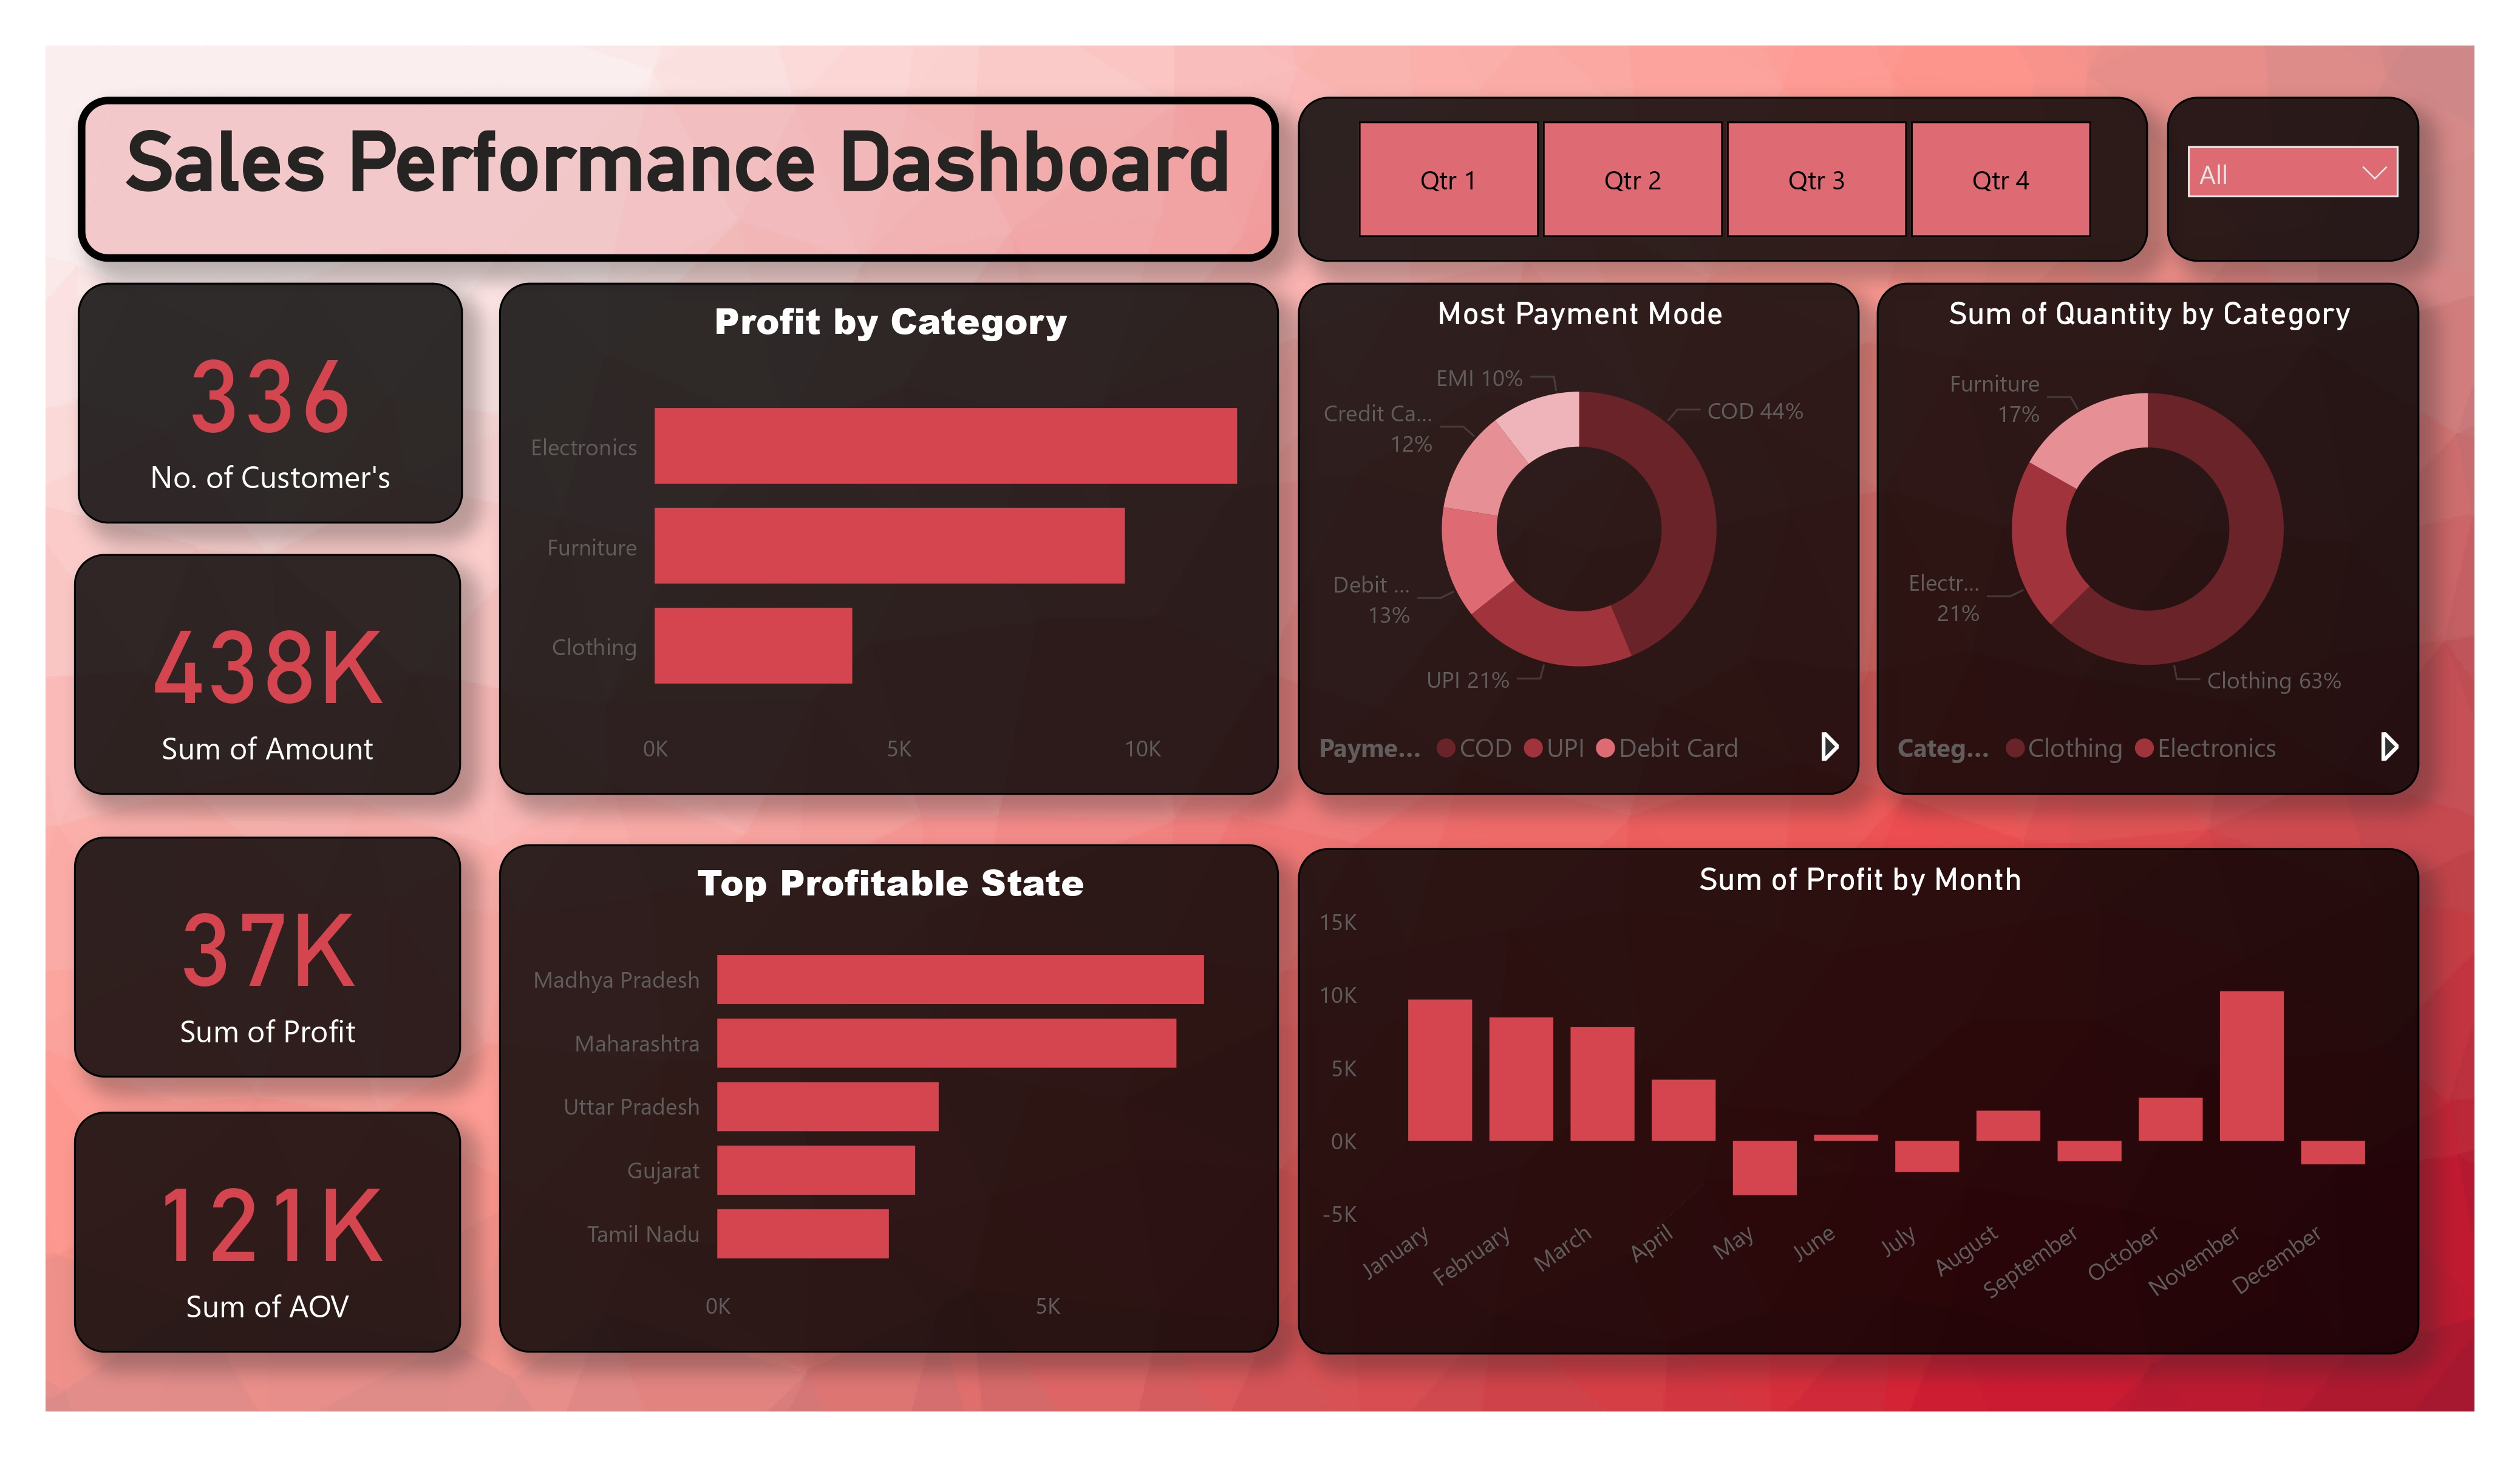

What the dashboard file says about the page in this screenshot:
{"tool":"powerbi","page":{"name":"Page 1","canvas":[1280,720],"ordinal":0},"visuals":[{"type":"textbox","box":[16.7,27.4,633.3,86.9],"z":0},{"type":"clusteredColumnChart","fields":{"Category":["Orders.Order Date.Variation.Date Hierarchy.Month"],"Y":["Sum(Details.Profit)"]},"box":[659.5,422.6,591.7,267.9],"z":1000},{"type":"clusteredBarChart","title":"Profit by Category","fields":{"Category":["Details.Category"],"Y":["Sum(Details.Profit)"]},"box":[239.3,125,410.7,270.2],"z":2000},{"type":"donutChart","fields":{"Category":["Details.Category"],"Y":["Sum(Details.Quantity)"]},"box":[965.5,125,285.7,270.2],"z":3000},{"type":"card","fields":{"Values":["Count(Orders.CustomerName)"]},"box":[16.7,125,203.6,127.4],"z":4000},{"type":"card","fields":{"Values":["Sum(Details.Profit)"]},"box":[15.5,416.7,203.6,127.4],"z":5000},{"type":"card","fields":{"Values":["Sum(Details.AOV)"]},"box":[15.5,561.9,203.6,127.4],"z":6000},{"type":"clusteredBarChart","title":"Top Profitable State","fields":{"Category":["Orders.State"],"Y":["Sum(Details.Profit)"]},"box":[239.3,421.4,410.7,267.9],"z":7000},{"type":"donutChart","title":"Most Payment Mode","fields":{"Category":["Details.PaymentMode"],"Y":["Sum(Details.Quantity)"]},"box":[659.5,125,296.4,270.2],"z":8000},{"type":"slicer","fields":{"Values":["Orders.Order Date.Variation.Date Hierarchy.Quarter"]},"box":[659.5,27.4,448.8,86.9],"z":9000},{"type":"slicer","fields":{"Values":["Orders.State"]},"box":[1117.9,27.4,133.3,86.9],"z":10000},{"type":"card","fields":{"Values":["Sum(Details.Amount)"]},"box":[15.5,267.9,203.6,127.4],"z":11000}]}

Visuals, with their boxes in screenshot pixels (x1, y1, x2, y2):
textbox: {"left": 77, "top": 98, "right": 1279, "bottom": 262}
clusteredColumnChart - Orders.Order Date.Variation.Date Hierarchy.Month x Sum(Details.Profit): {"left": 1297, "top": 847, "right": 2420, "bottom": 1356}
"Profit by Category" clusteredBarChart: {"left": 500, "top": 283, "right": 1279, "bottom": 795}
donutChart - Details.Category x Sum(Details.Quantity): {"left": 1878, "top": 283, "right": 2420, "bottom": 795}
card - Count(Orders.CustomerName): {"left": 77, "top": 283, "right": 463, "bottom": 525}
card - Sum(Details.Profit): {"left": 75, "top": 836, "right": 461, "bottom": 1078}
card - Sum(Details.AOV): {"left": 75, "top": 1112, "right": 461, "bottom": 1353}
"Top Profitable State" clusteredBarChart: {"left": 500, "top": 845, "right": 1279, "bottom": 1353}
"Most Payment Mode" donutChart: {"left": 1297, "top": 283, "right": 1859, "bottom": 795}
slicer - Orders.Order Date.Variation.Date Hierarchy.Quarter: {"left": 1297, "top": 98, "right": 2148, "bottom": 262}
slicer - Orders.State: {"left": 2167, "top": 98, "right": 2420, "bottom": 262}
card - Sum(Details.Amount): {"left": 75, "top": 554, "right": 461, "bottom": 795}
